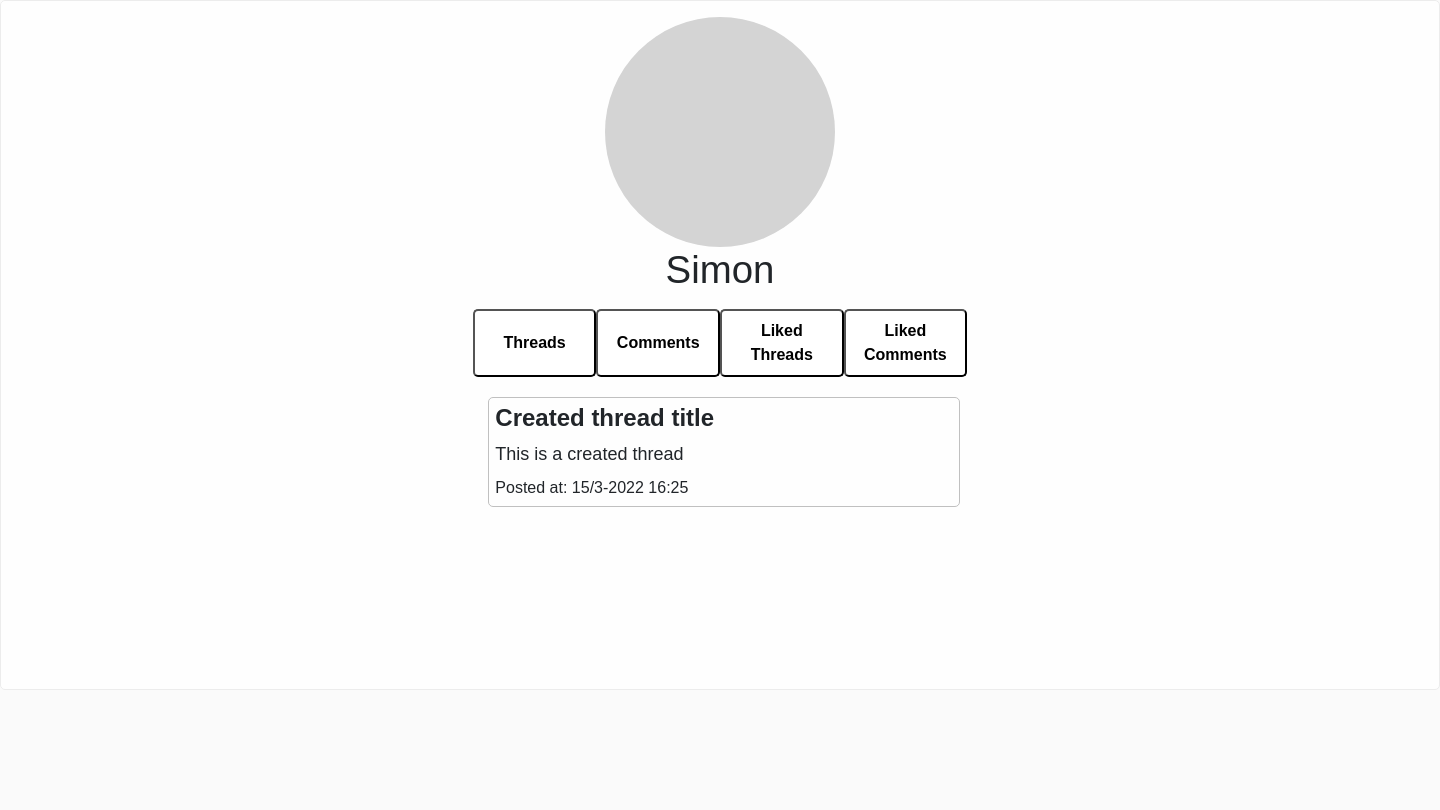
Test: Clicking liked comments shows the comments liked by the owner.
The width and height of the screenshot is (1440, 810).
Expected: the text "This is a created thread" is shown, [495,444,683,464]
Click the button "Liked Comments" at [905, 343], box [844,309,967,377]
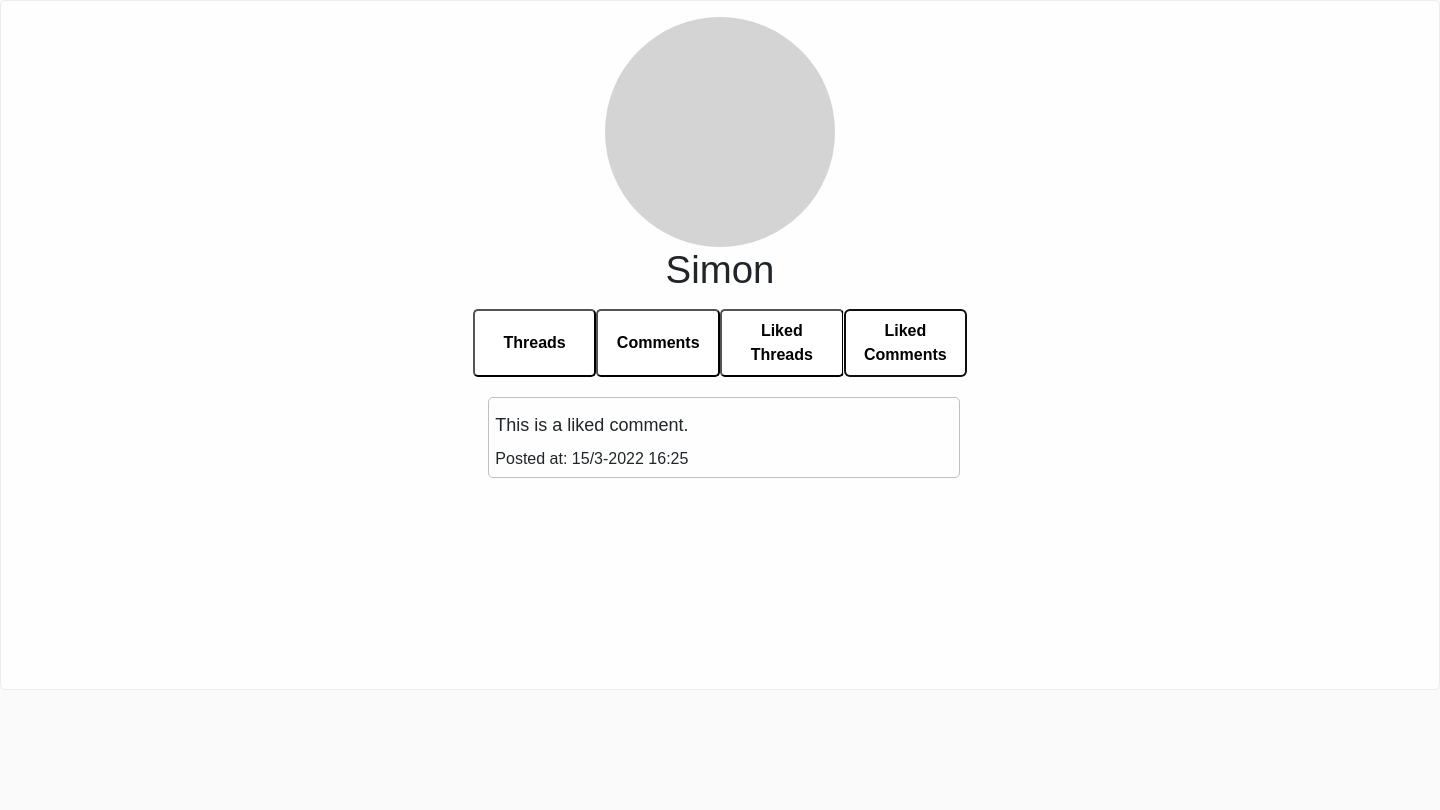
Expected: the text "This is a liked comment." is shown, [495,415,688,435]
Expected: the link "This is a created thread" is gone
